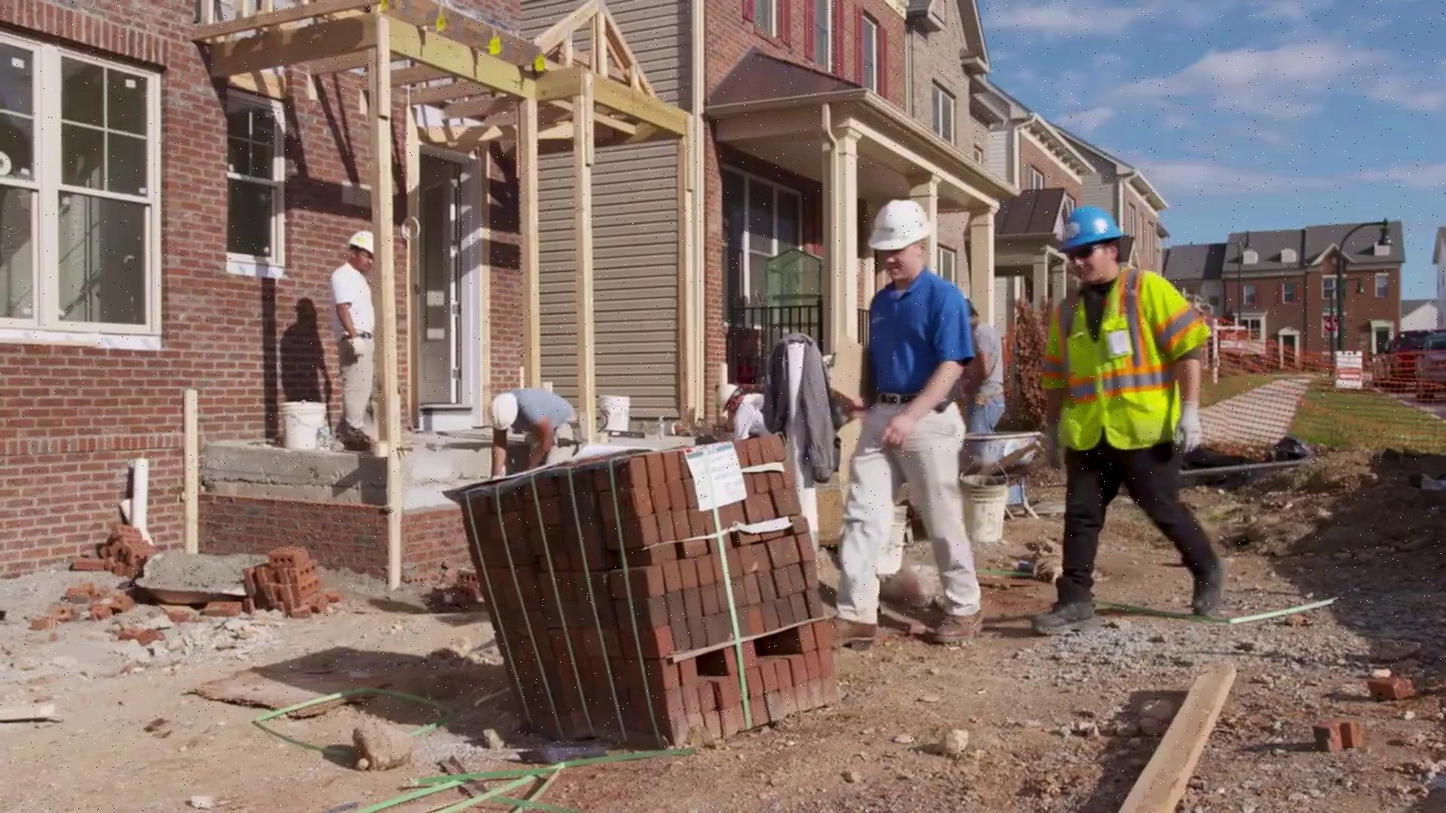Hard_hat: (1040, 204, 1137, 255), (863, 201, 932, 251), (338, 228, 381, 260)
Person: (1022, 204, 1233, 634), (821, 204, 982, 649)
Vest: (1043, 273, 1209, 448)
